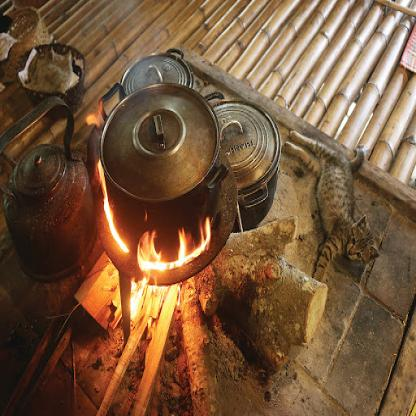fire: (87, 107, 227, 327)
